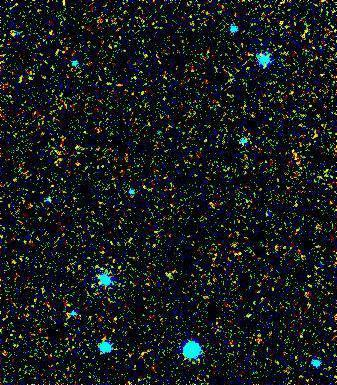star: (233, 301, 263, 331)
